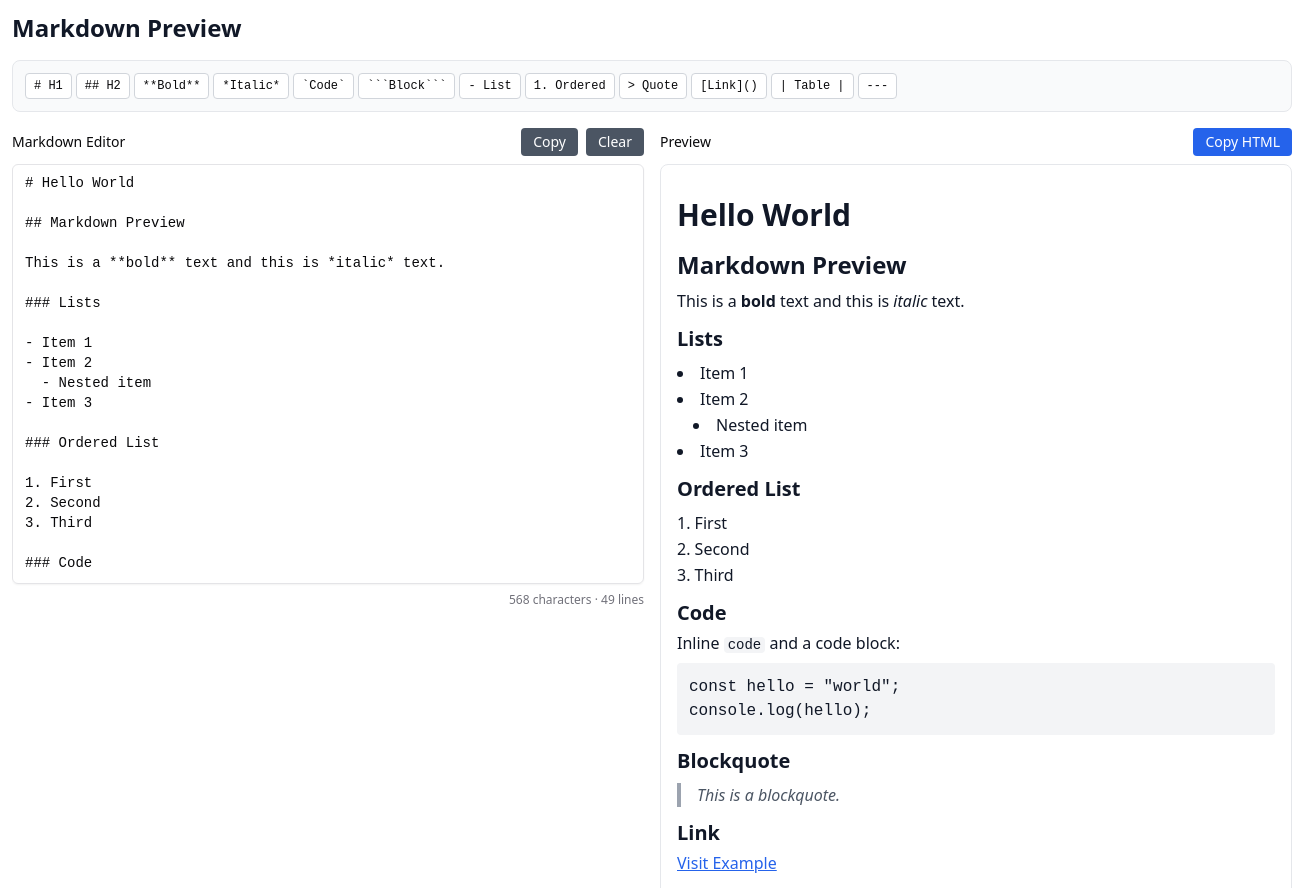
it: MarkdownPreview › Live Preview › should render heading in preview
Replace the text in the text box with test id "markdown-editor" with "# My Heading": (328, 374) left=12, top=164, right=644, bottom=584
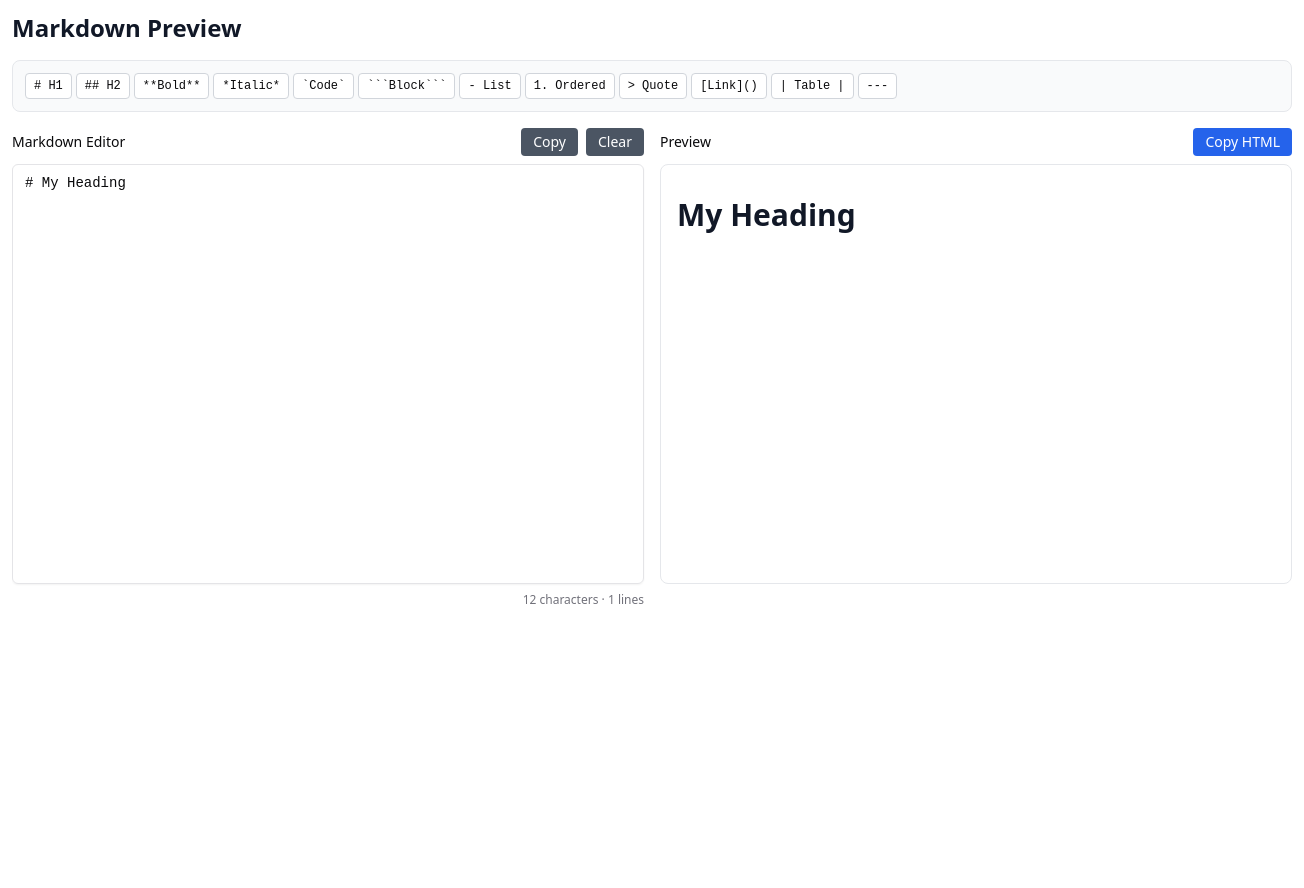
Expected: the element with test id "markdown-preview" reads "My Heading", left=677, top=194, right=856, bottom=235
